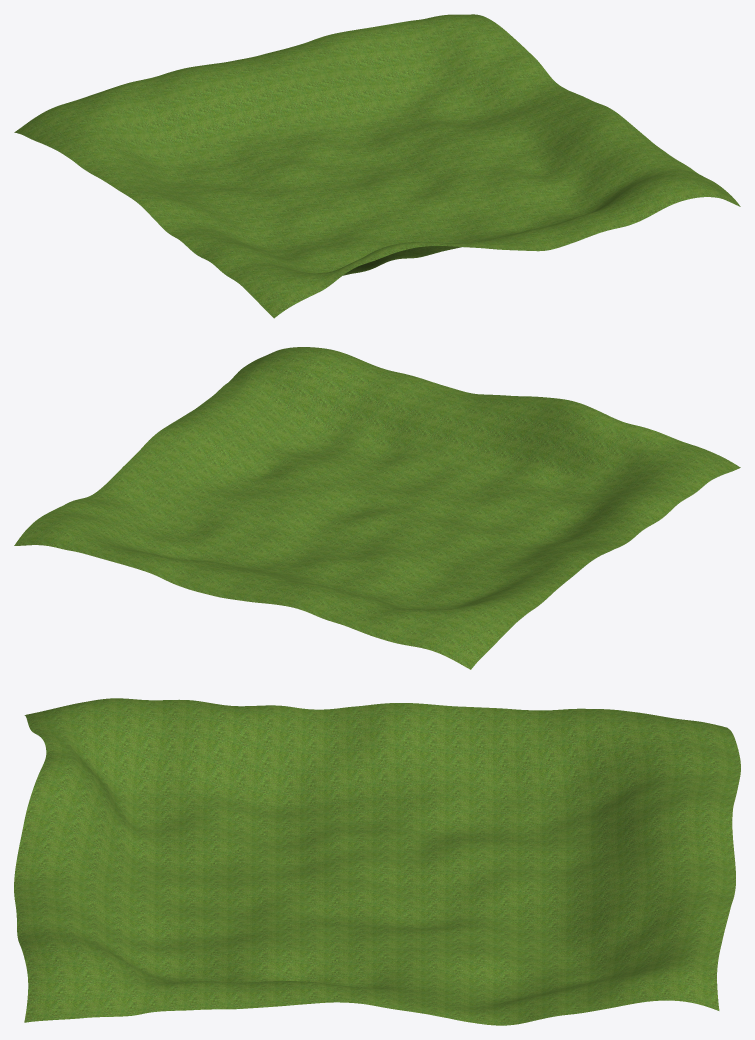
Rendered from terrain.gltf.
The picture shows the model from 3 angles, top to bottom: view 1: azimuth 30°, elevation 25°; view 2: azimuth 150°, elevation 25°; view 3: azimuth 270°, elevation 25°; orthographic projection. The views are drawn at different scales.
Visible parts, largest first — view 1: Plane; view 2: Plane; view 3: Plane.
Part boxes in pixels (bbox=[...]): Plane: bbox=[14, 14, 740, 318]; Plane: bbox=[14, 347, 740, 669]; Plane: bbox=[14, 698, 740, 1025].
Size of the model in its own units: 45.24 by 5.02 by 45.29.
Materials: 1 (1 with a texture image).
